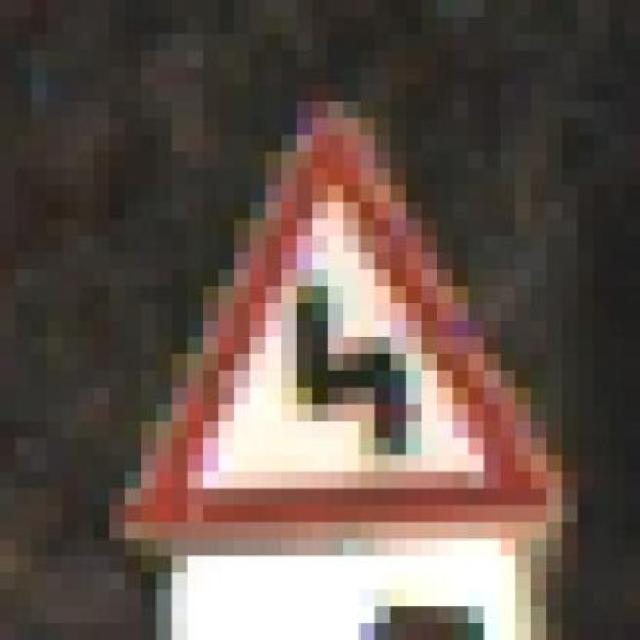Left Zig Zag Traffic: (108, 101, 578, 539)
